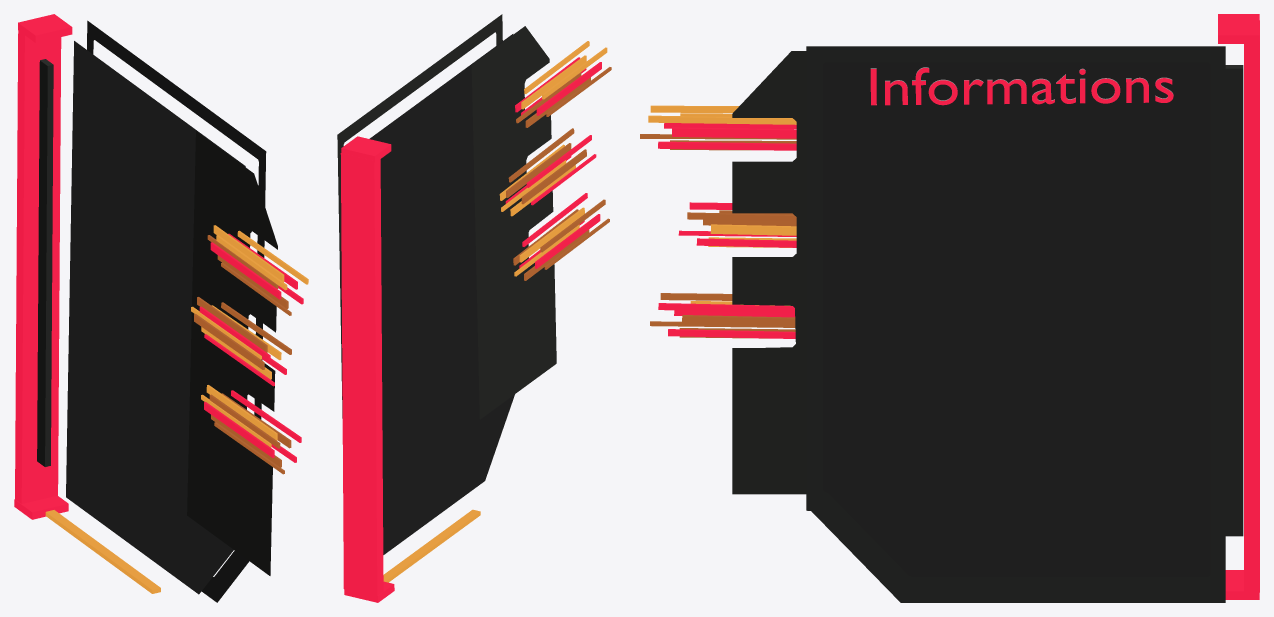
File: contact.glb
The picture shows the model from 3 angles, left to right: view 1: azimuth 30°, elevation 25°; view 2: azimuth 150°, elevation 25°; view 3: azimuth 270°, elevation 25°; orthographic projection. The views are drawn at different scales.
Visible parts, largest first — view 1: Plane.003, Plane.002, Cube.029, Cube.027, Plane, Cube.028, Cube.019, Cube.001, Cube.016, Cube.021, Cube.003, Cube.014 (+7 smaller); view 2: Plane.003, Plane.002, Cube.029, Plane, Cube.028, Cube.016, Cube.001, Cube.019, Cube.014, Cube.003, Cube.021, Cube.006 (+5 smaller); view 3: Plane.003, Plane, Plane.002, Cube.029, Cube.027, Text, Cube.025, Cube.007, Cube.026, Cube.024, Cube.006, Cube.008 (+2 smaller).
Boxes of the visible parts, <box> form: Plane.003: <box>66,41,245,594</box>; Plane.002: <box>187,131,277,575</box>; Cube.029: <box>14,14,72,519</box>; Cube.027: <box>37,59,53,466</box>; Plane: <box>87,20,266,602</box>; Cube.028: <box>45,510,160,593</box>; Cube.019: <box>210,242,281,299</box>; Cube.001: <box>204,402,274,457</box>; Cube.016: <box>194,314,264,369</box>; Cube.021: <box>213,225,284,282</box>; Cube.003: <box>206,385,277,440</box>; Cube.014: <box>197,297,267,352</box>; Plane.003: <box>369,34,514,554</box>; Plane.002: <box>471,26,556,419</box>; Cube.029: <box>340,136,394,602</box>; Plane: <box>337,14,502,418</box>; Cube.028: <box>383,509,480,582</box>; Cube.016: <box>521,149,586,204</box>; Cube.001: <box>535,214,600,268</box>; Cube.019: <box>536,62,601,115</box>; Cube.014: <box>506,143,571,197</box>; Cube.003: <box>519,207,584,262</box>; Cube.021: <box>521,55,586,109</box>; Cube.006: <box>522,193,587,246</box>; Plane.003: <box>823,62,1210,576</box>; Plane: <box>806,46,1225,602</box>; Plane.002: <box>732,51,806,494</box>; Cube.029: <box>1218,14,1259,599</box>; Cube.027: <box>1225,65,1243,536</box>; Text: <box>870,68,1173,105</box>; Cube.025: <box>672,127,796,138</box>; Cube.007: <box>682,315,795,326</box>; Cube.026: <box>658,141,796,150</box>; Cube.024: <box>648,115,796,124</box>; Cube.006: <box>658,303,794,312</box>; Cube.008: <box>668,329,795,338</box>.
Size of the model in its own units: 0.2558 by 2.02 by 2.
